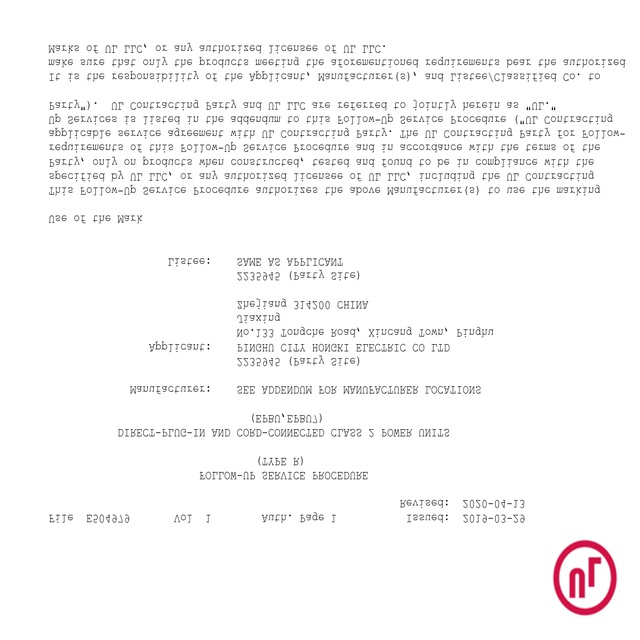ul: (554, 537, 616, 617)
